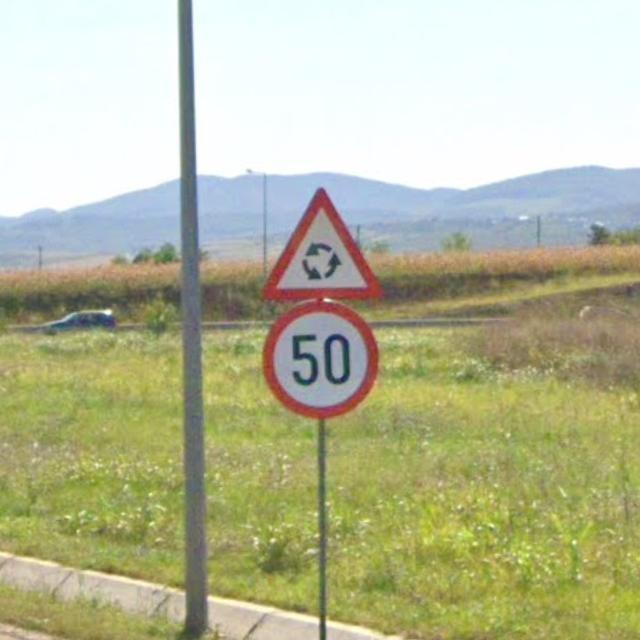forb_speed_over_50: (263, 299, 380, 420)
